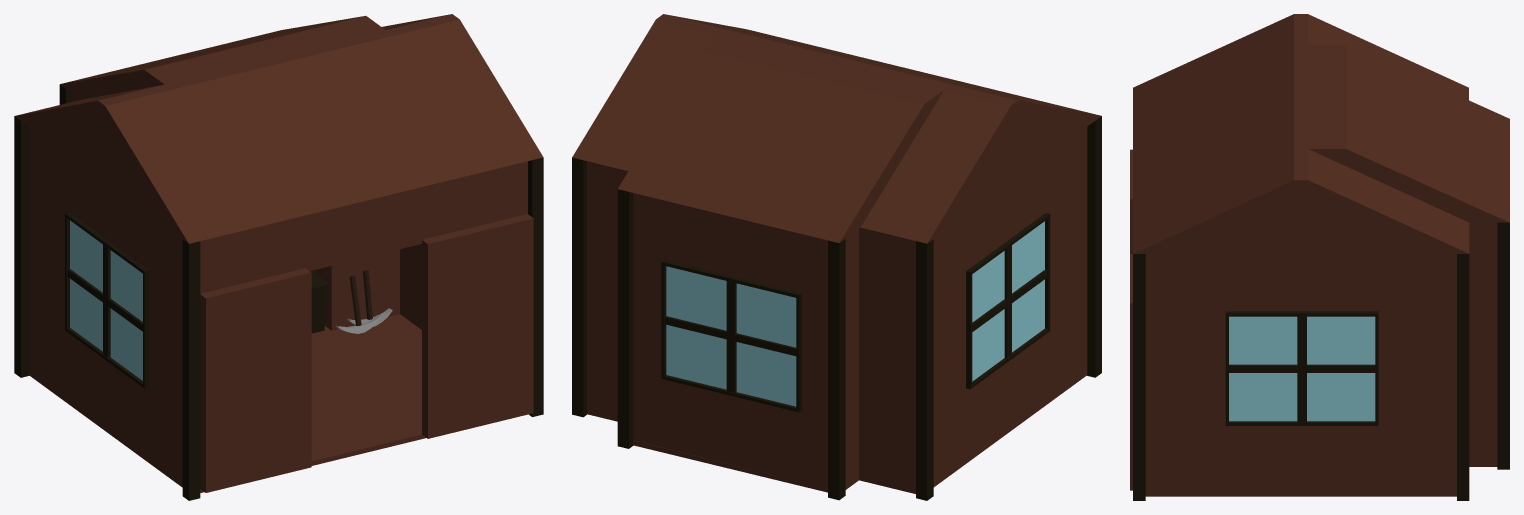
File: MiningShed.FBX
3 renders of one model, left to right at view 1: azimuth 30°, elevation 25°; view 2: azimuth 150°, elevation 25°; view 3: azimuth 270°, elevation 25°, orthographic. The views are drawn at different scales.
Parts seen in each view (by area): view 1: MiningShed; view 2: MiningShed; view 3: MiningShed.
Part boxes in pixels (left/top/right/bottom): MiningShed: left=14, top=14, right=543, bottom=500; MiningShed: left=572, top=14, right=1101, bottom=500; MiningShed: left=1130, top=14, right=1509, bottom=500.
Size of the model in its own units: 31.45 by 28.28 by 30.35.
